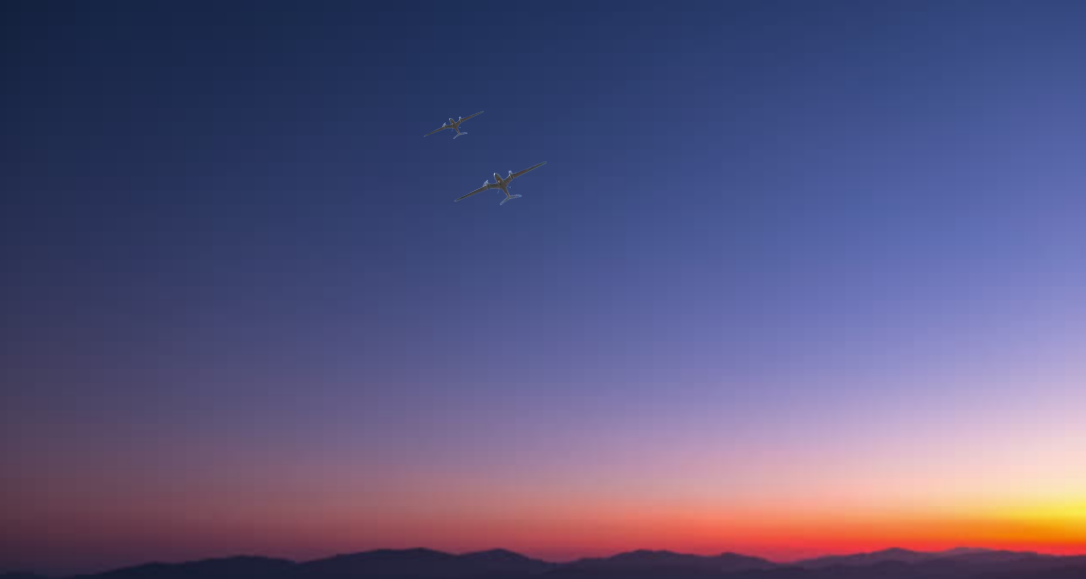military drone: (453, 160, 547, 206), (422, 109, 484, 139)
